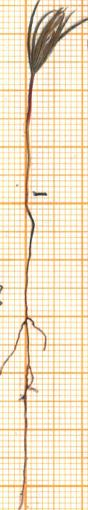flower: (19, 0, 88, 75)
root: (0, 194, 50, 509)
stem: (19, 79, 41, 196)
